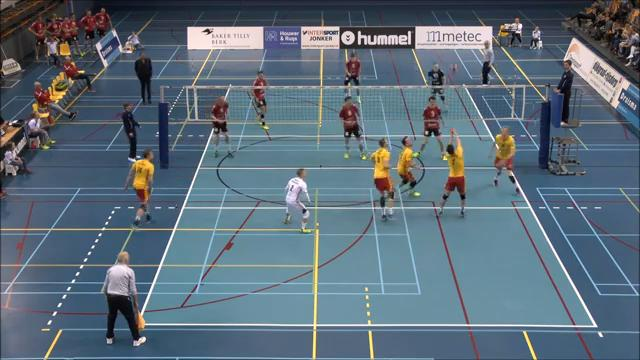Dig: (434, 126, 469, 218)
Player: (125, 149, 153, 227), (489, 127, 519, 194), (414, 96, 445, 158), (371, 139, 394, 220), (284, 168, 311, 232), (339, 96, 366, 159), (397, 136, 419, 196), (211, 96, 232, 156), (428, 63, 447, 111), (253, 71, 268, 129), (344, 52, 360, 102)
ball: (449, 63, 458, 73)
